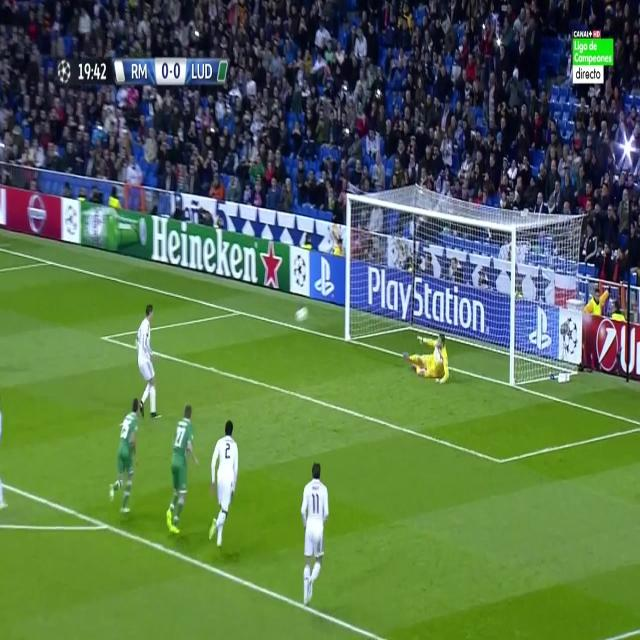Ball: (294, 304, 310, 324)
Goalkeeper: (401, 330, 451, 387)
Player: (165, 401, 200, 542), (300, 460, 330, 608), (106, 394, 142, 516), (207, 421, 240, 554), (133, 302, 165, 423)
